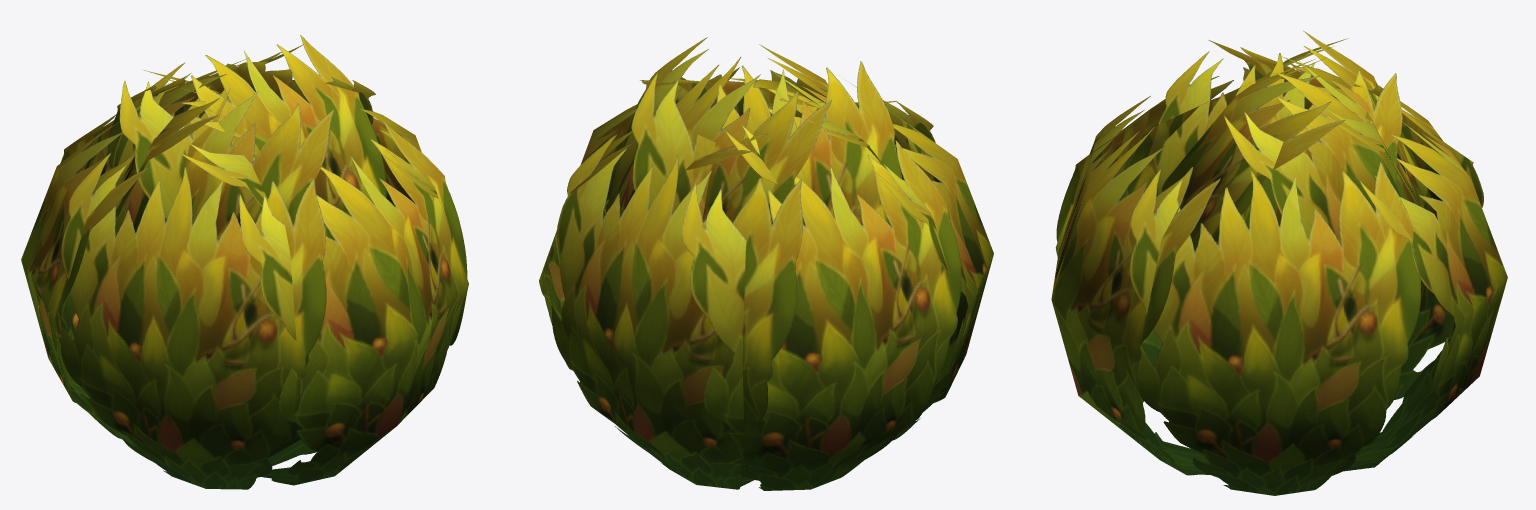
File: glass_006_1.fbx
3 views of the same model, side by side, from view 1: azimuth 30°, elevation 25°; view 2: azimuth 150°, elevation 25°; view 3: azimuth 270°, elevation 25° (orthographic). The views are drawn at different scales.
Parts seen in each view (by area): view 1: polySurface1; view 2: polySurface1; view 3: polySurface1.
Part boxes in pixels (x1,y1,x2,y2): polySurface1: (21, 35, 468, 489); polySurface1: (539, 37, 993, 490); polySurface1: (1051, 30, 1507, 495).
Size of the model in its own units: 53.56 by 55.46 by 53.15.
